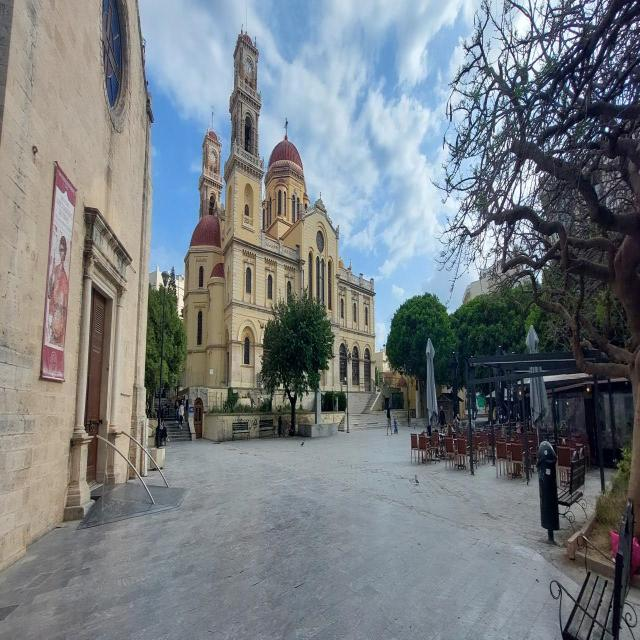Agios Minas: (181, 16, 378, 404)
